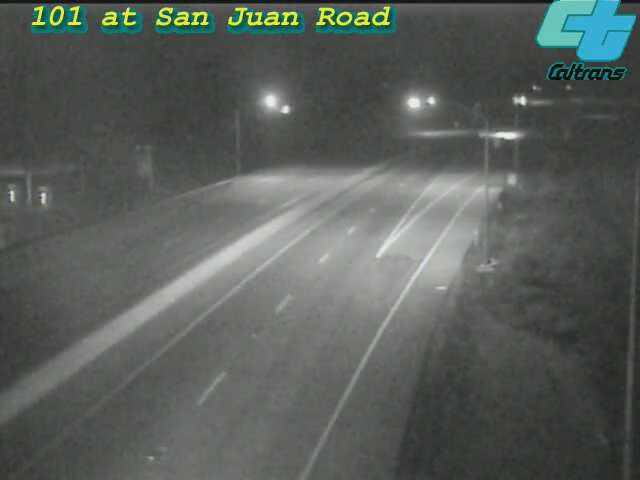vehicle: (481, 110, 531, 160)
